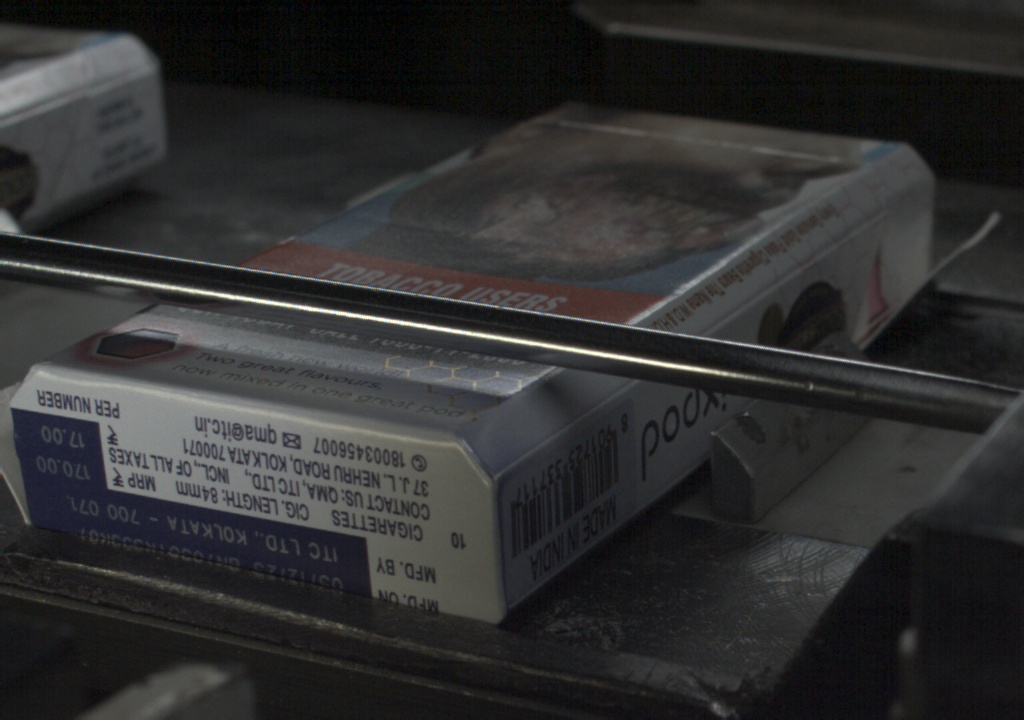g_bottom: (14, 367, 501, 620)
g_label: (21, 487, 374, 599)
g_lmiter: (702, 275, 789, 335), (493, 429, 567, 482), (793, 220, 868, 272), (569, 382, 635, 428)
ng_miter: (867, 183, 957, 294)
price: (14, 418, 103, 485)
